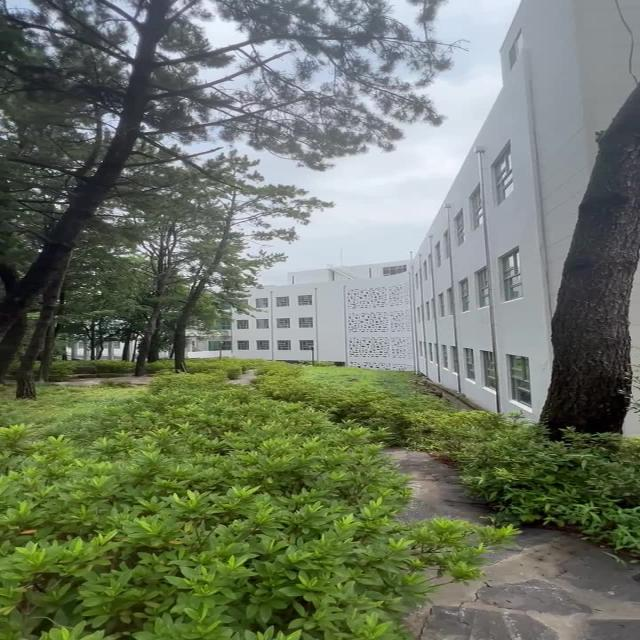building: (272, 258, 546, 375)
